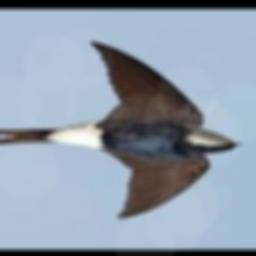Swallow: (0, 42, 243, 219)
